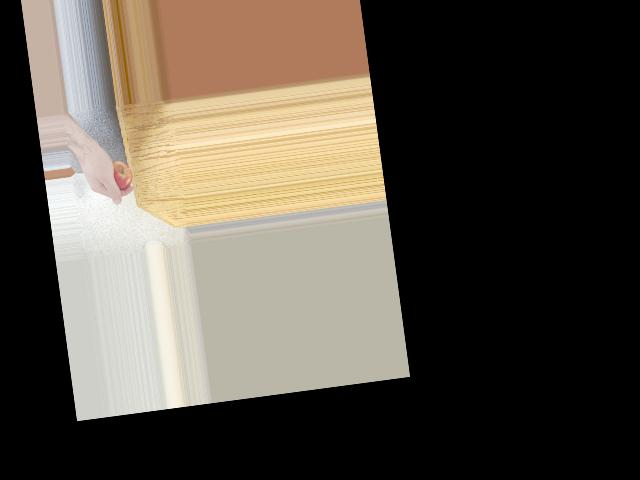apple: (105, 158, 135, 193)
